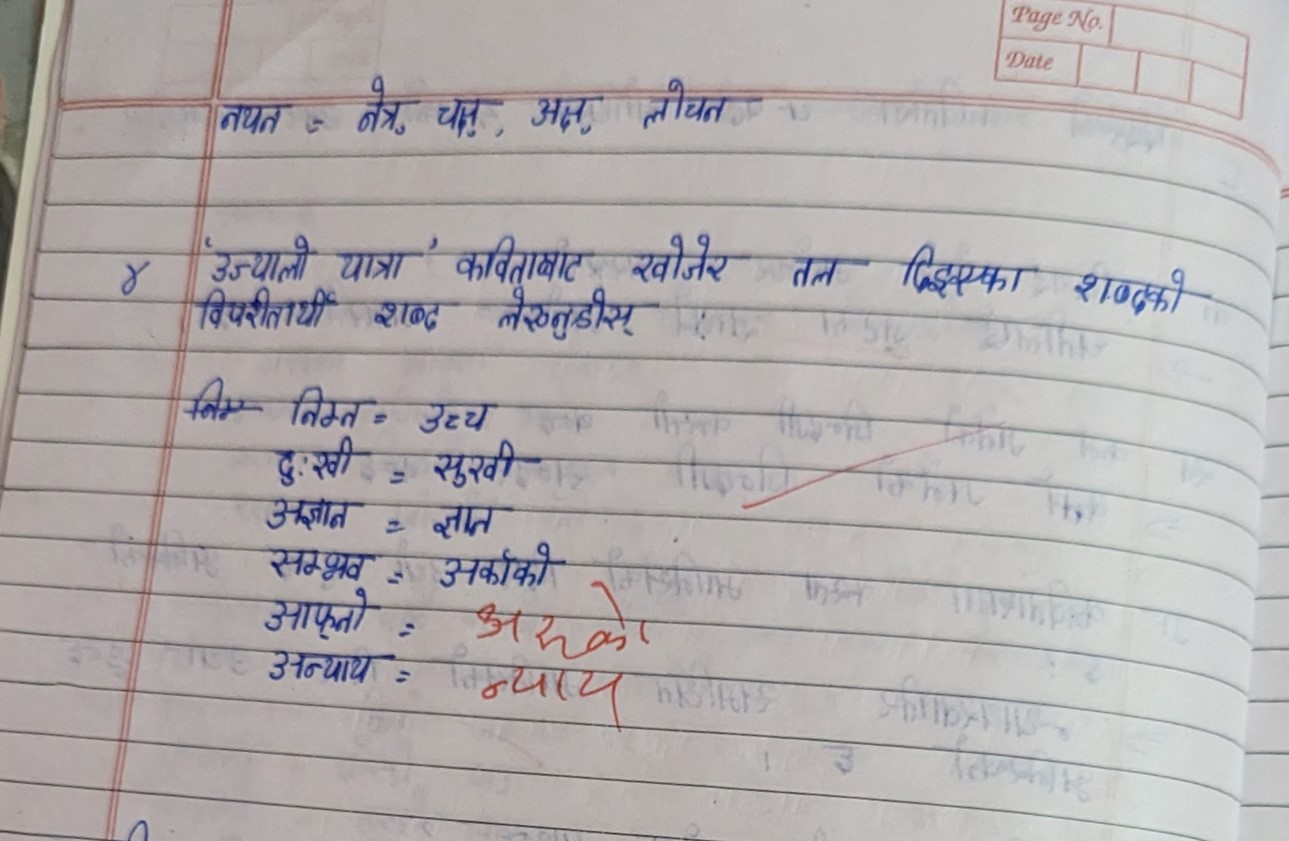text: (463, 589, 667, 656), (475, 655, 648, 725), (892, 239, 1034, 313), (1065, 255, 1200, 323), (487, 286, 650, 341), (626, 221, 753, 290), (443, 228, 592, 285), (189, 285, 342, 338), (636, 76, 755, 140), (258, 641, 398, 693), (433, 539, 563, 591), (257, 588, 379, 640), (425, 444, 543, 495), (776, 239, 870, 301), (207, 235, 320, 285), (259, 489, 373, 538), (209, 87, 303, 146), (280, 380, 380, 433), (524, 76, 604, 140), (263, 541, 381, 582), (265, 432, 363, 481), (411, 393, 508, 439), (347, 63, 404, 140), (423, 495, 519, 539), (432, 80, 495, 146), (371, 289, 457, 336), (109, 237, 162, 306), (329, 247, 425, 281)
